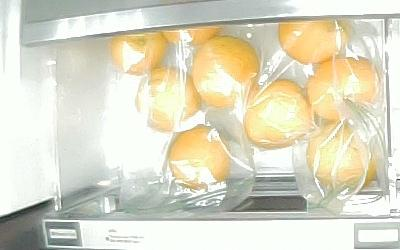orange_vinyl: (242, 79, 312, 150), (192, 36, 260, 107), (306, 122, 377, 190), (308, 56, 378, 122), (134, 65, 201, 133), (169, 123, 232, 190), (278, 20, 350, 64), (109, 31, 169, 75), (162, 27, 220, 44)
